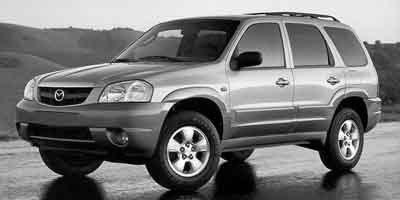car: (14, 12, 383, 193)
